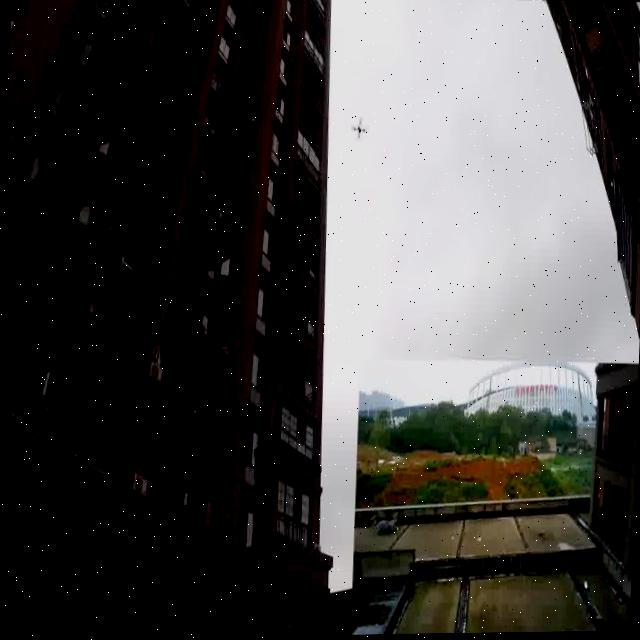drone: (346, 115, 370, 139)
